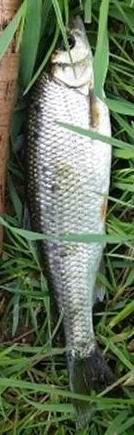Rutilus rutilus: (20, 20, 114, 415)
